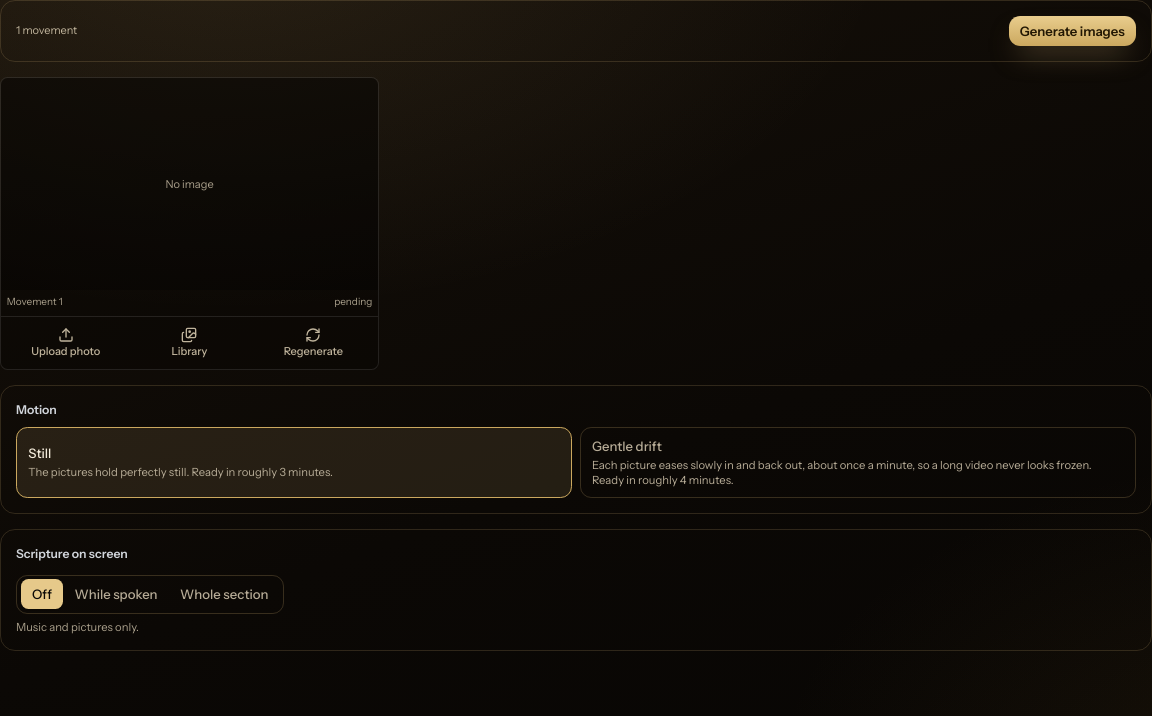
Test: AmbientLookStep — your own pictures › an empty library says what to do instead
Click the button with aria-label "Choose from library for movement 1" at (189, 343), box [128, 321, 250, 365]
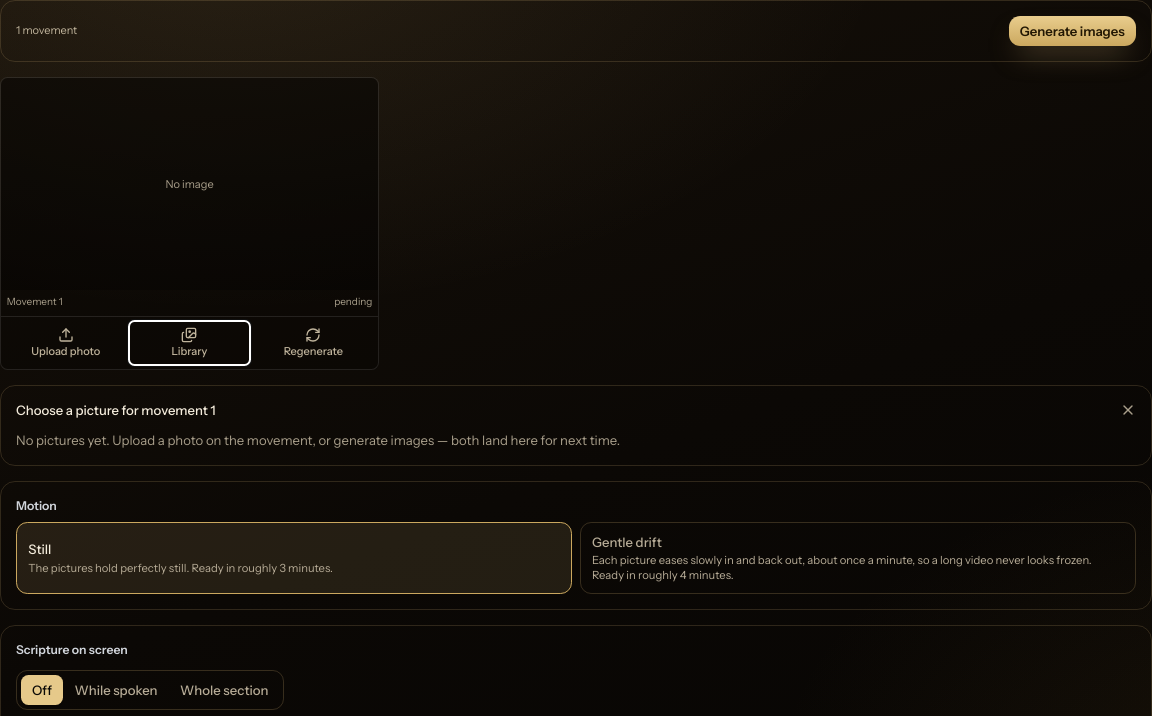
Now the text "No pictures yet" is shown, box [16, 432, 620, 448]
